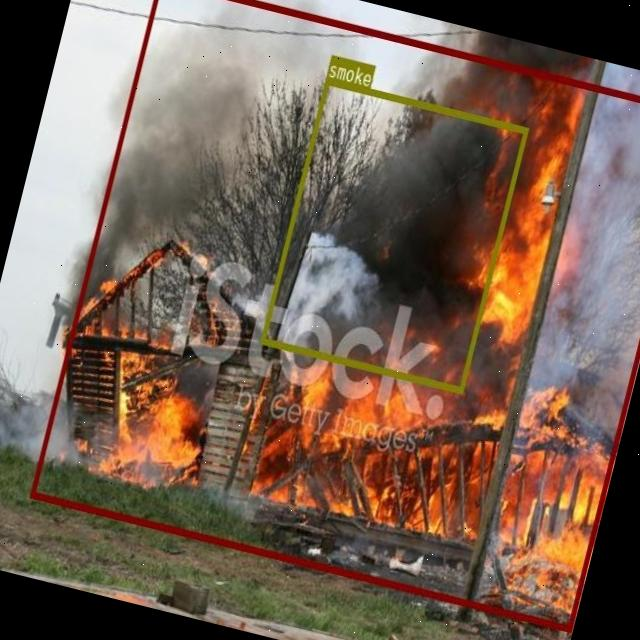fire: (29, 0, 640, 630)
smoke: (260, 78, 528, 392)
